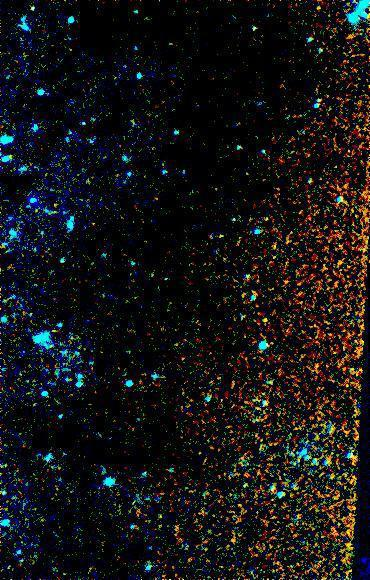star: (251, 307, 281, 337)
